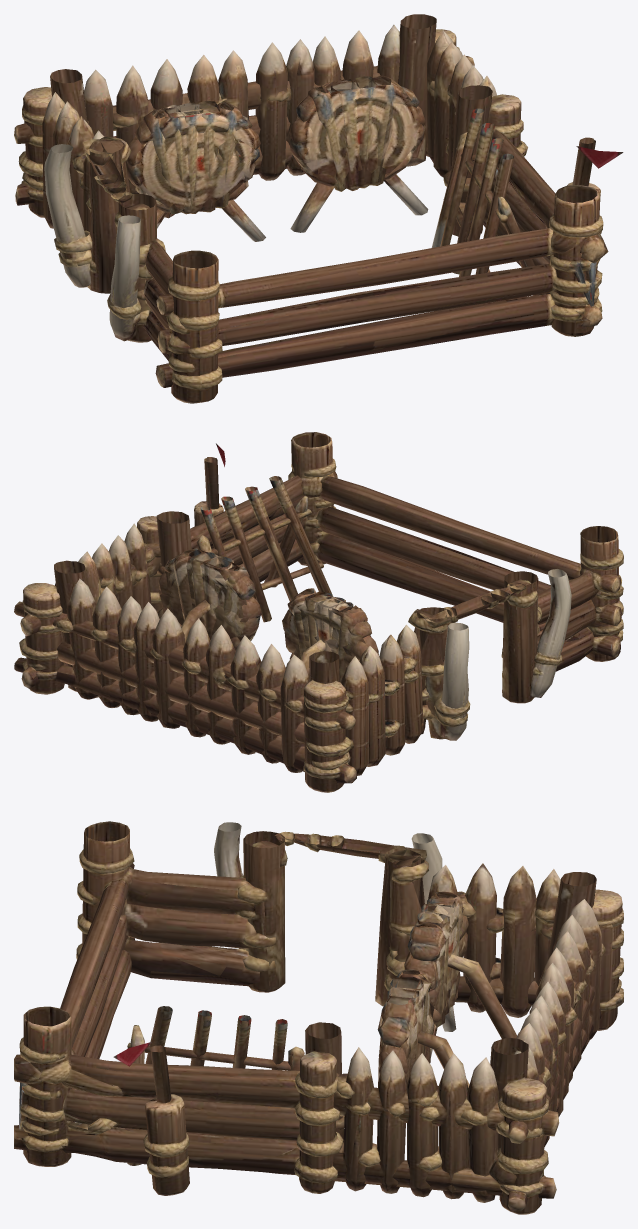
Rendered from campo-de-jabalinas_e2.glb.
The picture shows the model from 3 angles, top to bottom: view 1: azimuth 30°, elevation 25°; view 2: azimuth 150°, elevation 25°; view 3: azimuth 270°, elevation 25°; orthographic projection. The views are drawn at different scales.
Size of the model in its own units: 8 by 2.17 by 8.
Materials: 1 (1 with a texture image).
